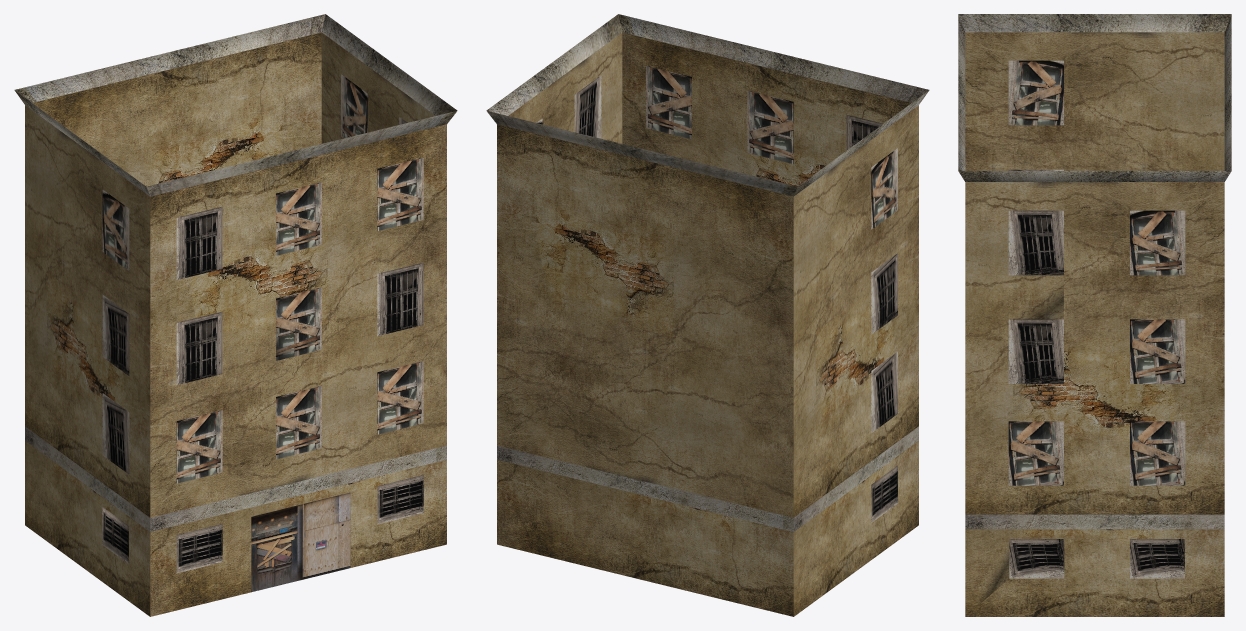
Rendered from Big_house_LOD2.FBX.
3 views of the same model, side by side, from view 1: azimuth 30°, elevation 25°; view 2: azimuth 150°, elevation 25°; view 3: azimuth 270°, elevation 25° (orthographic). The views are drawn at different scales.
Parts seen in each view (by area): view 1: B01_LOD2; view 2: B01_LOD2; view 3: B01_LOD2.
Boxes of the visible parts, x1,y1,x2,y2 form: B01_LOD2: (14, 14, 457, 616); B01_LOD2: (486, 14, 929, 616); B01_LOD2: (958, 14, 1231, 616).
Bounding box in the file's own units: 89.78 × 120 × 66.
Materials: 1 (1 with a texture image).
